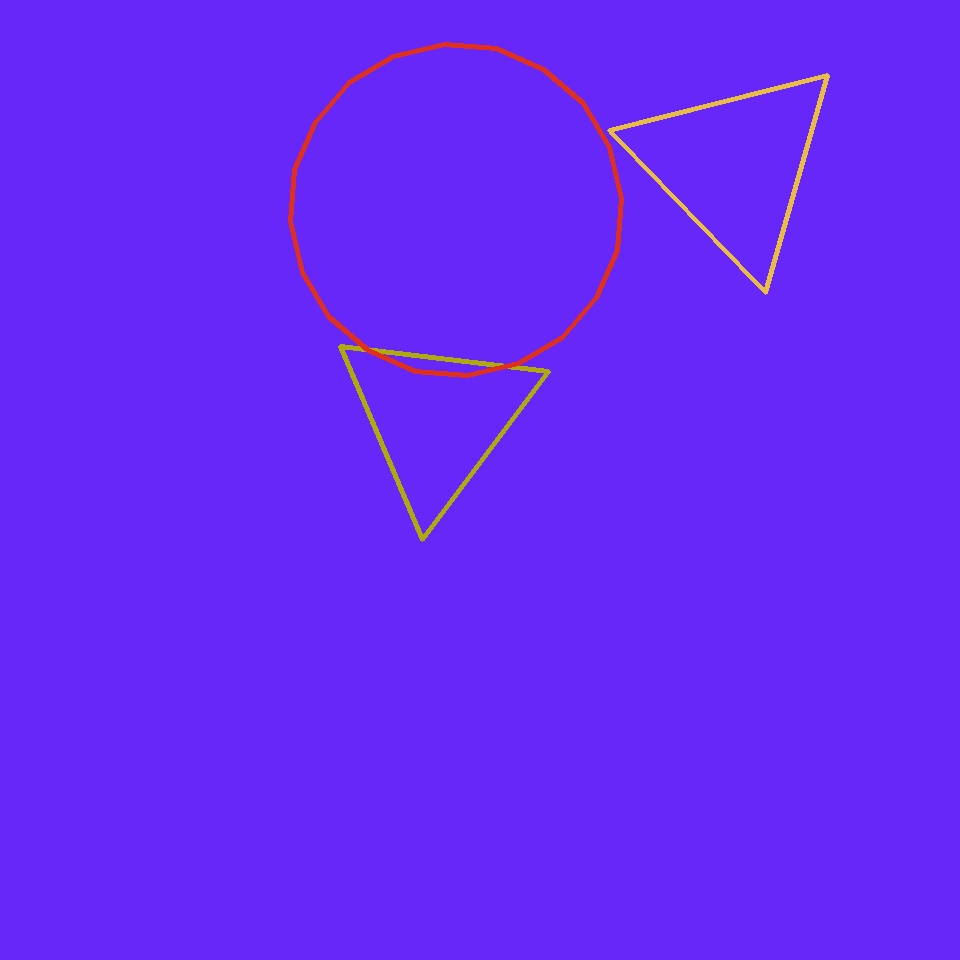circle: (625, 57, 843, 274), (333, 322, 541, 516)
triangle: (290, 44, 622, 376)
